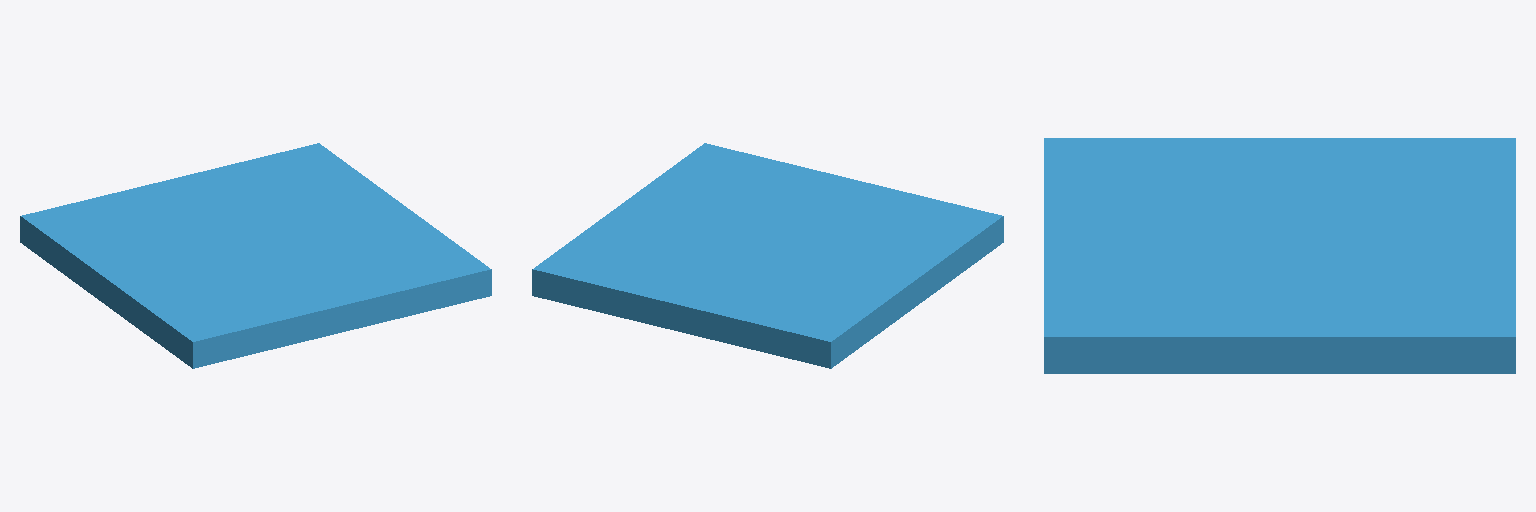
robot.urdf — keep_out:
<?xml version="1.0"?>
<!--
  Keep-out regions for cone demo, goal 2:  when the cone goes from the base of
  the ramp all the way up to the top.
-->
<robot xmlns:drake="http://drake.mit.edu" name="keep_out">

  <!-- Must keep this as the base link (do not change name): -->
  <link name="keep_out_base">
  </link>

  <!-- Keep-out 1:  prevent low EE samples. -->
  <link name="keep_out_1">
    <visual>
      <origin xyz="0.175 0.175 0.015" rpy="0 0 0"/>
      <geometry>
        <box size="0.35 0.35 0.03"/>
      </geometry>
    </visual>
    <collision>
      <origin xyz="0.175 0.175 0.015" rpy="0 0 0"/>
      <geometry>
        <box size="0.35 0.35 0.03"/>
      </geometry>
    </collision>
  </link>

  <joint name="keep_out_1_joint" type="fixed">
    <parent link="keep_out_base"/>
    <child link="keep_out_1"/>
    <origin xyz="0 0 0" rpy="0 0 0"/>
  </joint>

</robot>

--- Facts derived from the render (not from the file) ---
The picture shows the robot from 3 angles, left to right: view 1: azimuth 30°, elevation 25°; view 2: azimuth 150°, elevation 25°; view 3: azimuth 270°, elevation 25°; orthographic projection.
Robot: keep_out — 2 links, 1 joints (1 fixed); root link keep_out_base; default pose: all joints at 0.
Visible links, largest first — view 1: keep_out_1; view 2: keep_out_1; view 3: keep_out_1.
Link boxes in pixels (left/top/right/bottom): keep_out_1: left=20, top=143, right=491, bottom=368; keep_out_1: left=532, top=143, right=1003, bottom=368; keep_out_1: left=1044, top=138, right=1515, bottom=373.
Bounding box of the posed robot: 0.35 × 0.35 × 0.03 m (x, y, z).
Geometry: primitives only (box / cylinder / sphere), no mesh files.
